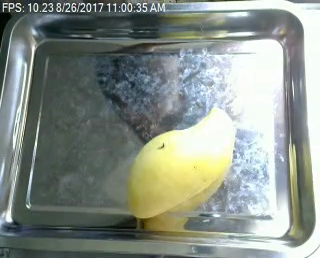Mango: (129, 100, 237, 226)
